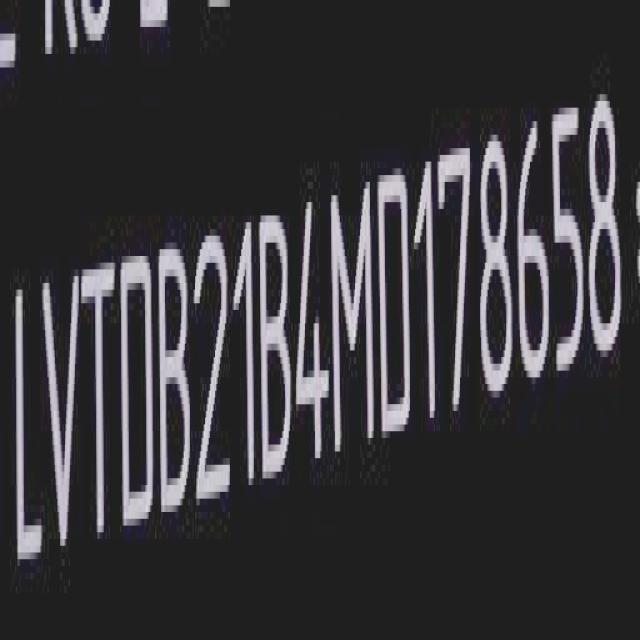1: (419, 154, 438, 440), (234, 214, 253, 498)
2: (197, 241, 230, 516)
4: (297, 198, 334, 476)
5: (551, 94, 585, 376)
6: (520, 111, 553, 391)
7: (437, 141, 471, 429)
8: (478, 132, 514, 404), (590, 89, 625, 361)
B: (158, 241, 194, 522), (259, 212, 294, 488)
D: (119, 246, 158, 532), (381, 161, 417, 446)
L: (11, 272, 43, 577)
M: (334, 178, 375, 460)
T: (83, 254, 115, 550)
V: (40, 260, 78, 567)
